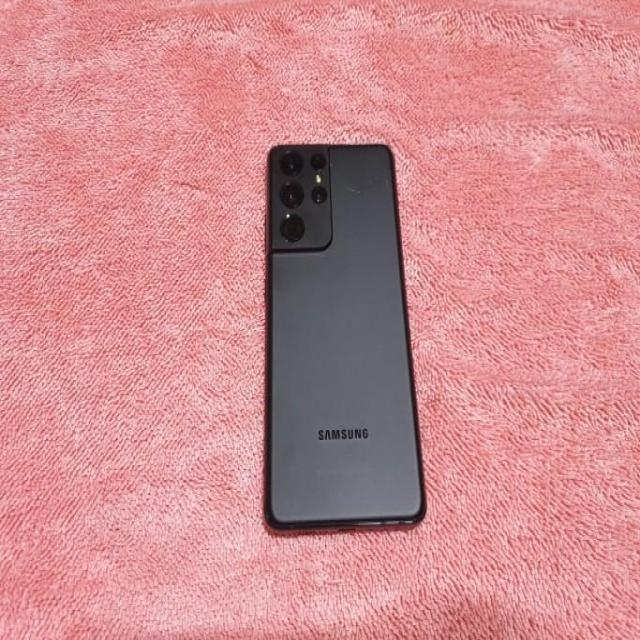laptop_computer: (247, 103, 478, 547)
